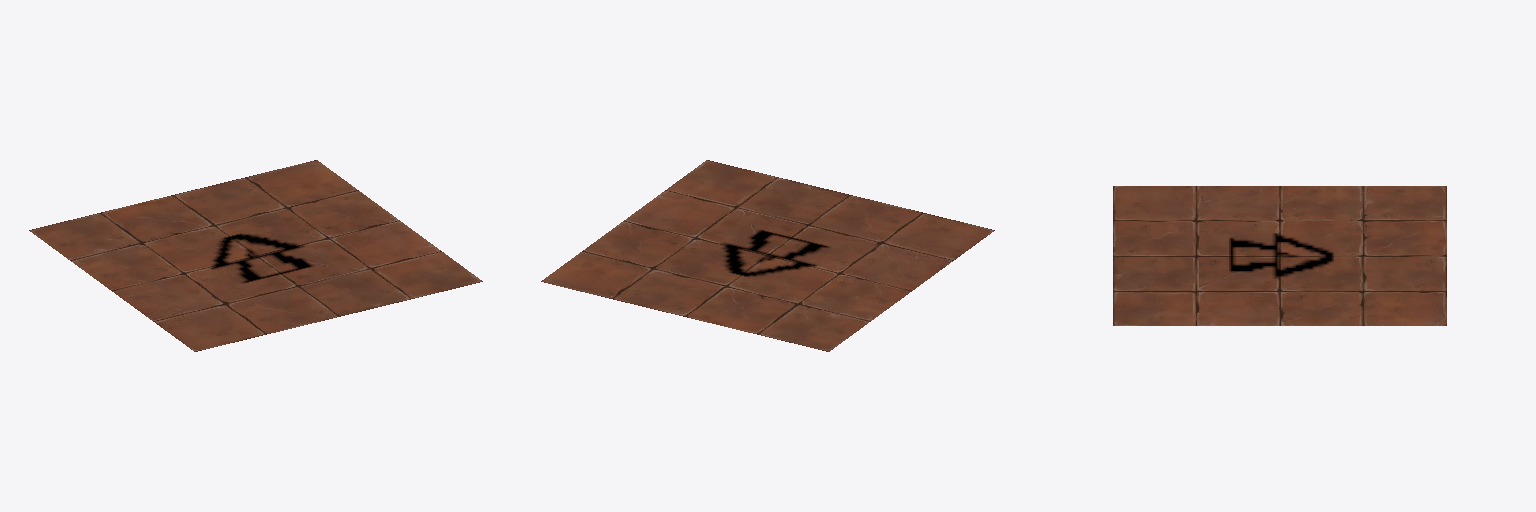
3 renders of one model, left to right at view 1: azimuth 30°, elevation 25°; view 2: azimuth 150°, elevation 25°; view 3: azimuth 270°, elevation 25°, orthographic.
Visible parts, largest first — view 1: pPlane1; view 2: pPlane1; view 3: pPlane1.
Boxes of the visible parts, box(x1,y1,x2,y2) form: pPlane1: box(29, 160, 482, 351); pPlane1: box(541, 160, 994, 351); pPlane1: box(1113, 186, 1446, 325).
Bounding box in the file's own units: 8 × 0 × 8.
1 materials, 1 textured.